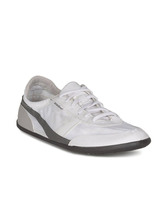shoes: (14, 73, 154, 157)
